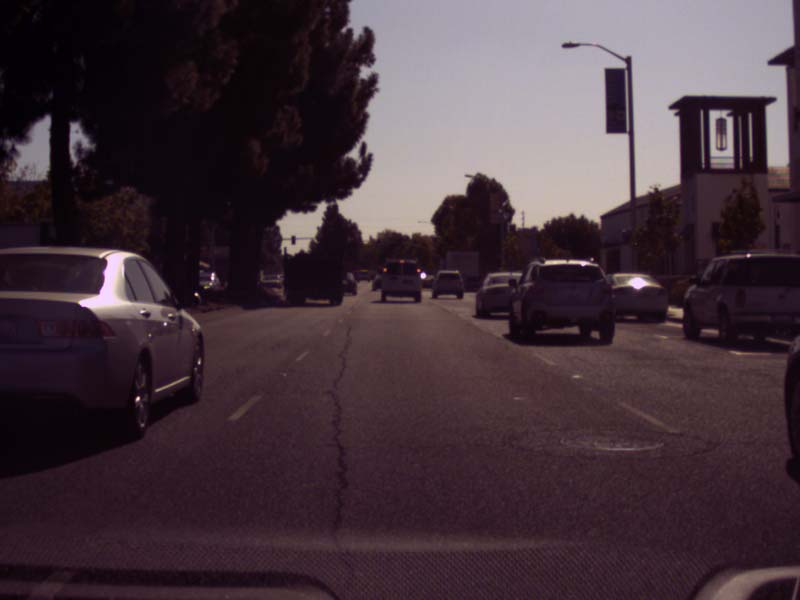Green: (376, 238, 381, 247)
